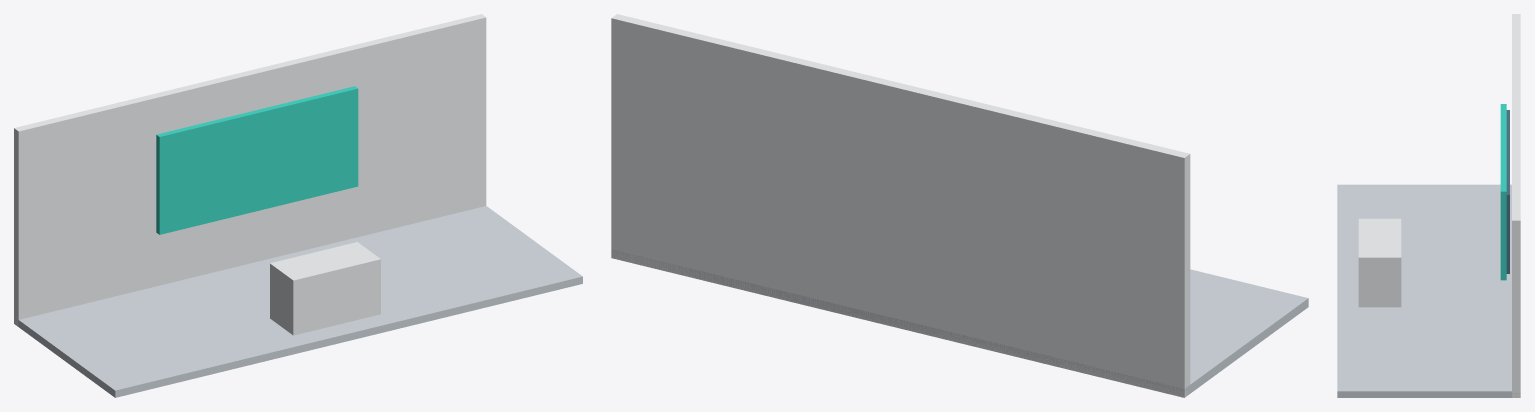
3 renders of one model, left to right at view 1: azimuth 30°, elevation 25°; view 2: azimuth 150°, elevation 25°; view 3: azimuth 270°, elevation 25°, orthographic. The views are drawn at different scales.
Parts seen in each view (by area): view 1: Exhibition Booth Concept; view 2: Exhibition Booth Concept; view 3: Exhibition Booth Concept.
Part boxes in pixels (x1,y1,x2,y2): Exhibition Booth Concept: (14,14,582,397); Exhibition Booth Concept: (611,14,1308,397); Exhibition Booth Concept: (1337,14,1520,397).
Size of the model in its own units: 8 by 3.2 by 3.
